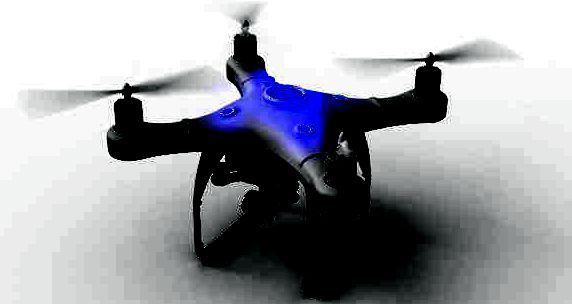Drone: (12, 0, 529, 272)
